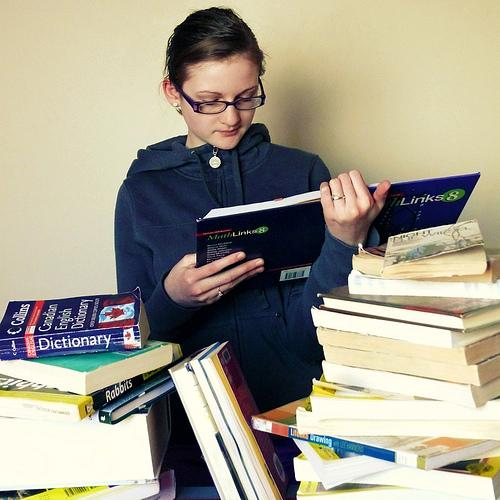person: (113, 7, 393, 498)
